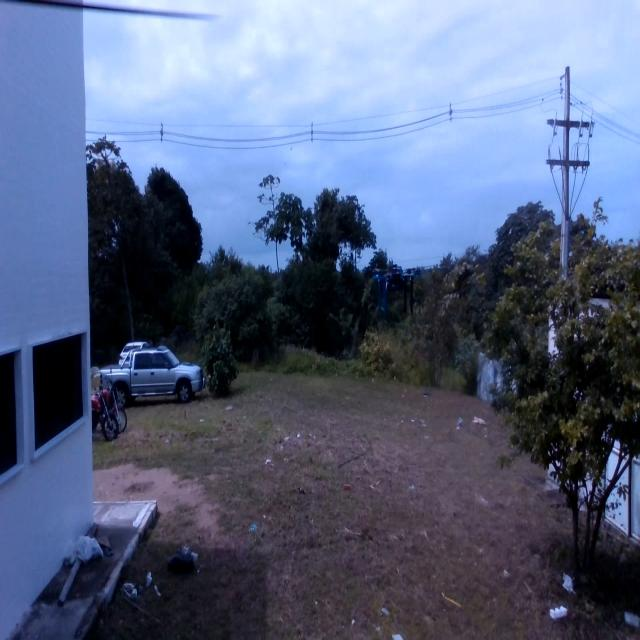-uav-: (368, 259, 420, 324)
